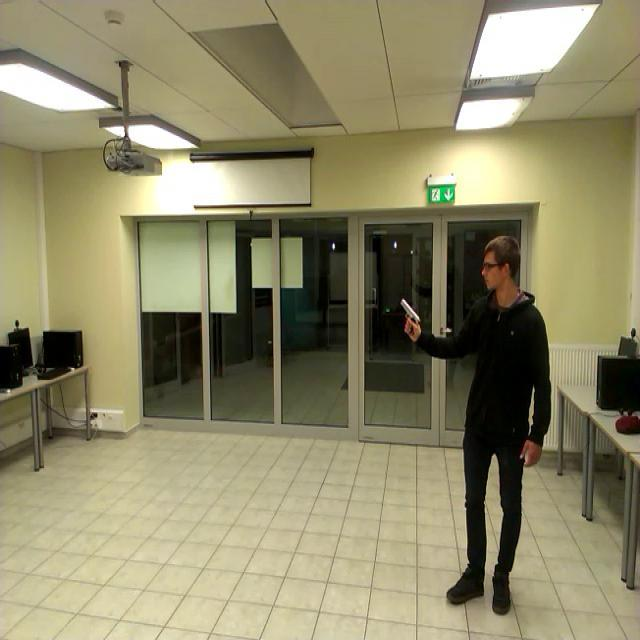Gun: (399, 297, 420, 333)
